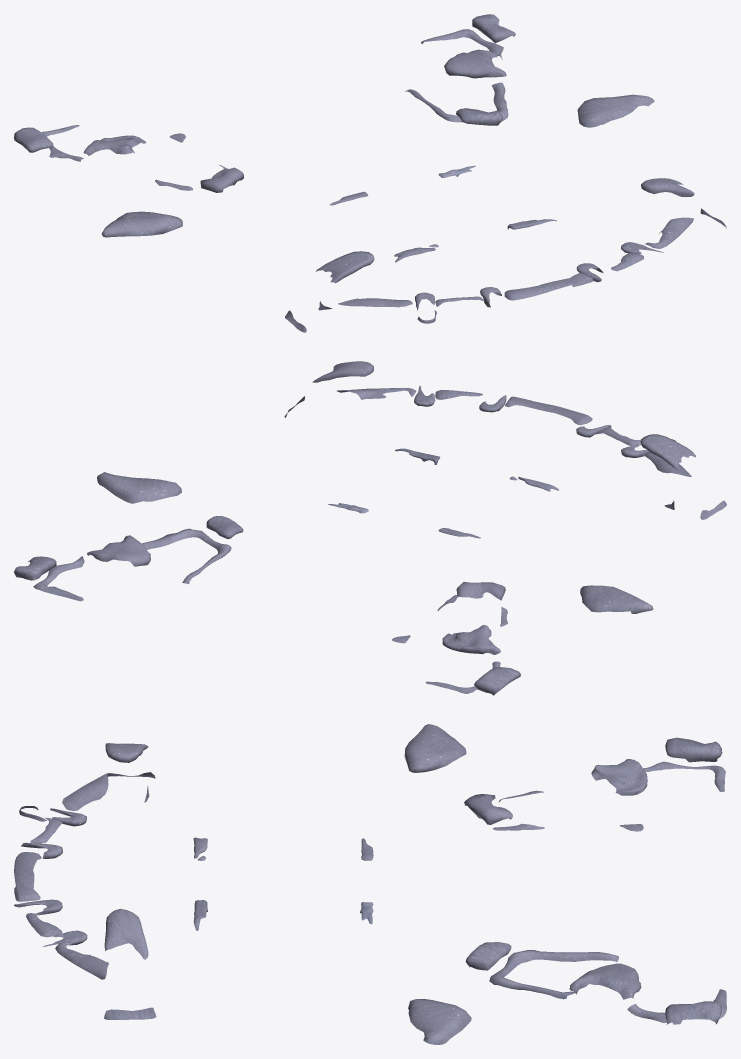
Rendered from pref_sm_beach_winter_snow01_lv2.fbx.
3 views of the same model, one above another, from view 1: azimuth 30°, elevation 25°; view 2: azimuth 150°, elevation 25°; view 3: azimuth 270°, elevation 25° (orthographic). The views are drawn at different scales.
Visible parts, largest first — view 1: pref_sm_beach_winter_snow01_lv2; view 2: pref_sm_beach_winter_snow01_lv2; view 3: pref_sm_beach_winter_snow01_lv2.
Boxes of the visible parts, box(x1,y1,x2,y2) form: pref_sm_beach_winter_snow01_lv2: box(14, 14, 726, 332); pref_sm_beach_winter_snow01_lv2: box(14, 361, 726, 695); pref_sm_beach_winter_snow01_lv2: box(14, 724, 726, 1044).
Bounding box in the file's own units: 50.16 × 5.04 × 47.74.
